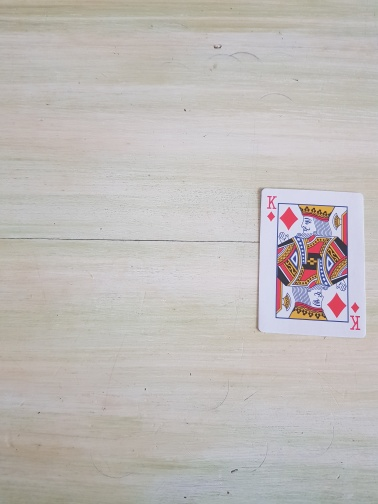king: (257, 186, 368, 339)
